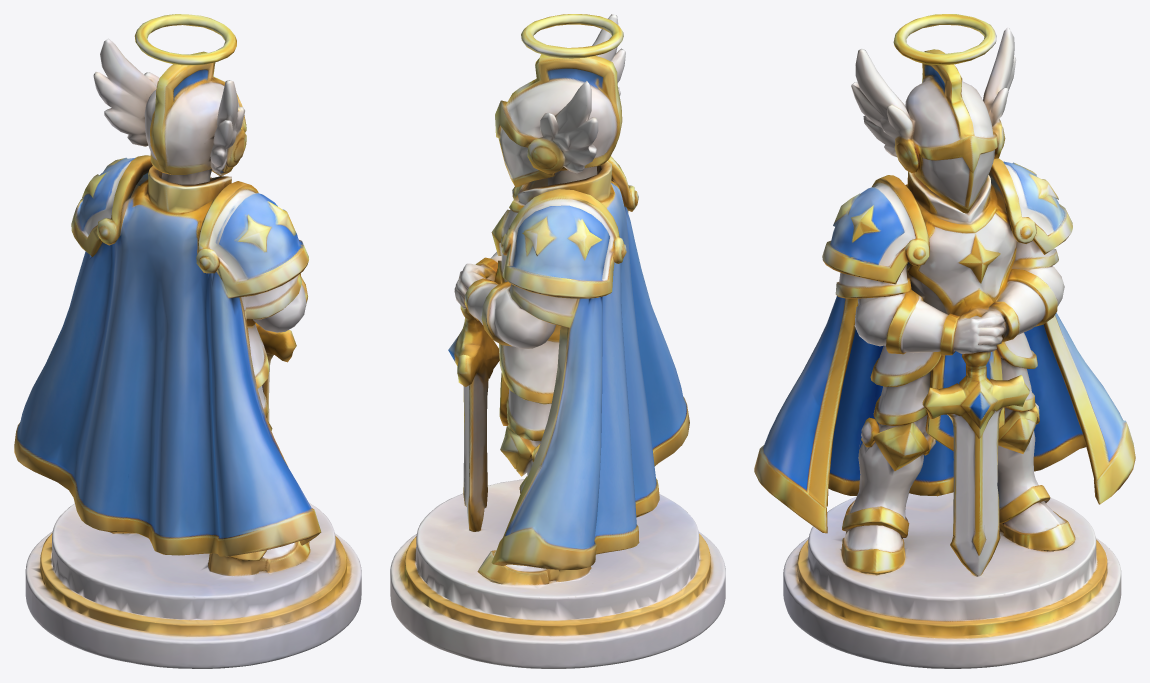
Rendered from Town_Halo_KnightStatue_HD_src.glb.
3 views of the same model, side by side, from view 1: azimuth 30°, elevation 25°; view 2: azimuth 150°, elevation 25°; view 3: azimuth 270°, elevation 25° (orthographic).
Visible parts, largest first — view 1: tripo_node_19c2a9eb-1c4b-49e2-bd85-836940113798; view 2: tripo_node_19c2a9eb-1c4b-49e2-bd85-836940113798; view 3: tripo_node_19c2a9eb-1c4b-49e2-bd85-836940113798.
Boxes of the visible parts, <box> form: tripo_node_19c2a9eb-1c4b-49e2-bd85-836940113798: <box>14,14,361,668</box>; tripo_node_19c2a9eb-1c4b-49e2-bd85-836940113798: <box>390,14,725,668</box>; tripo_node_19c2a9eb-1c4b-49e2-bd85-836940113798: <box>754,14,1135,668</box>.
Size of the model in its own units: 0.523 by 0.9795 by 0.6015.
Materials: 1 (1 with a texture image).
